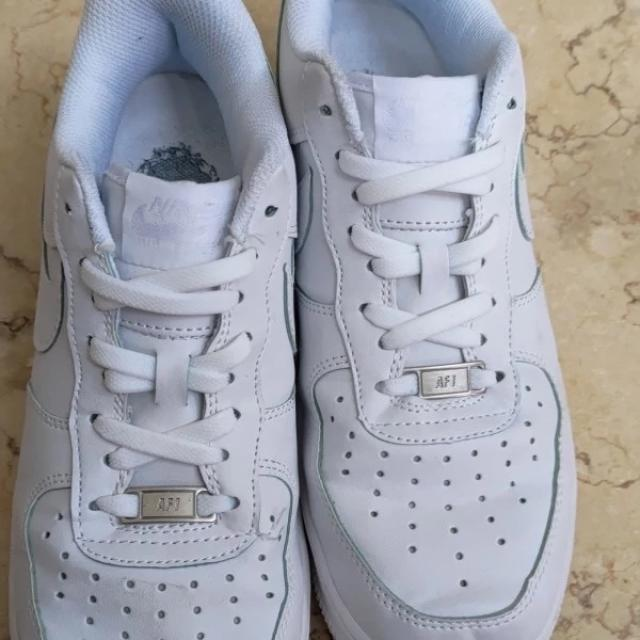nike fake air force: (8, 0, 314, 640), (277, 6, 582, 640), (26, 6, 304, 406)
